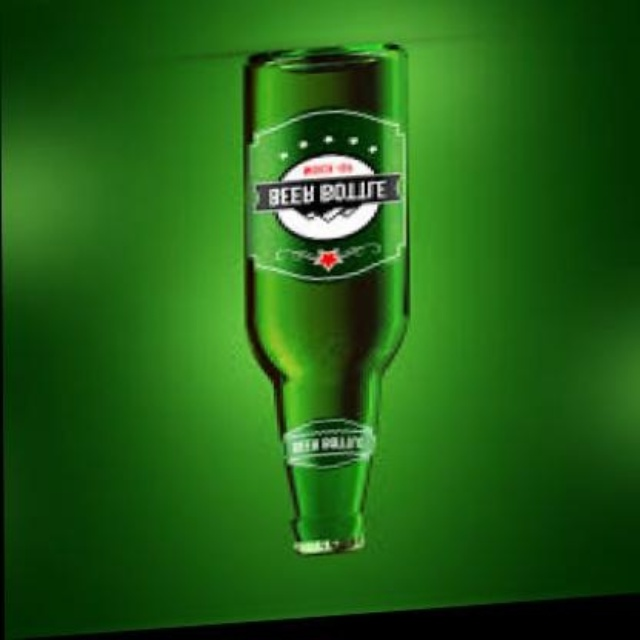trash: (246, 45, 408, 552)
